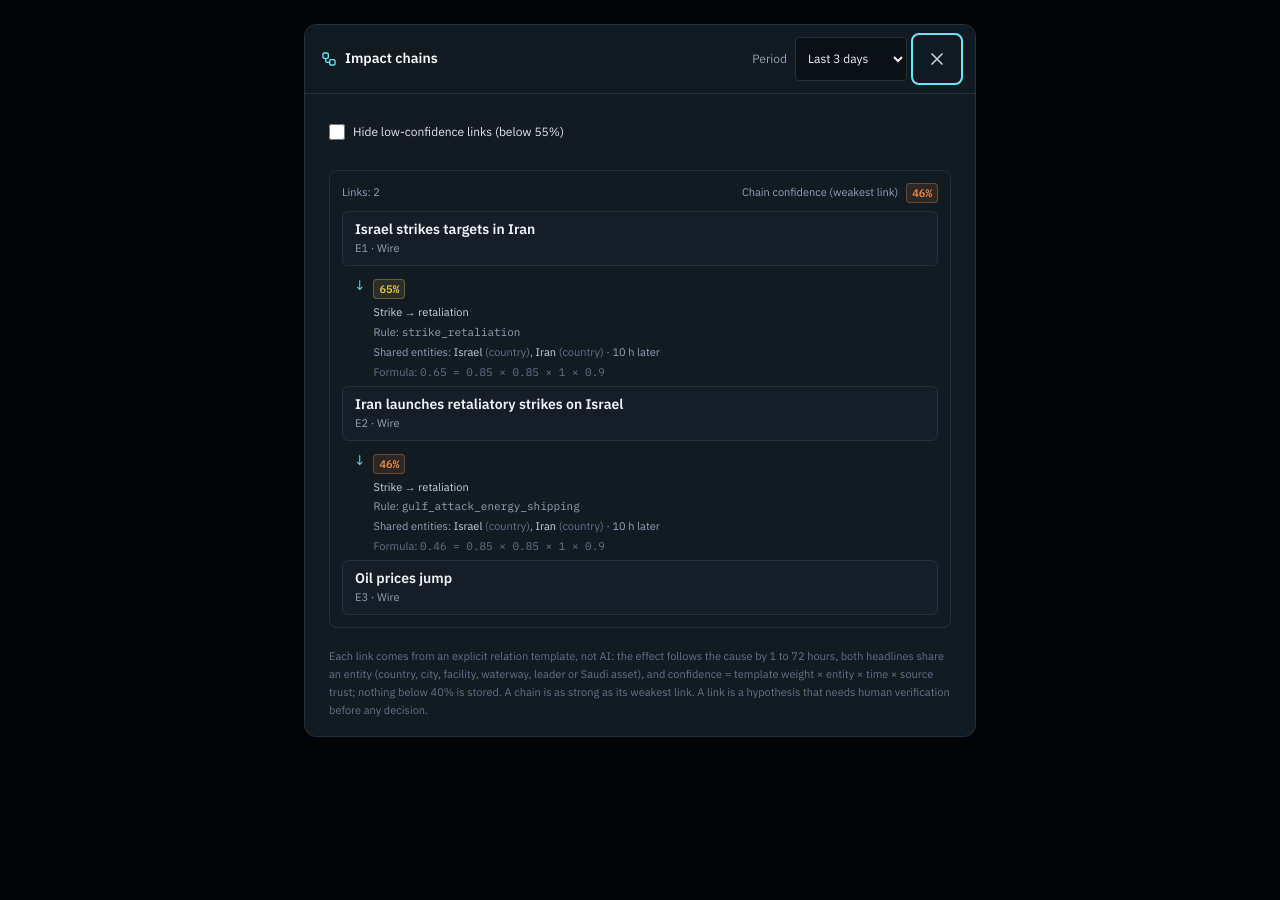
<ChainsModal> › hides low-confidence links by asking the server for stronger ones
Expected: the text "Israel strikes targets in Iran" is shown, [355, 219, 535, 240]
Click the checkbox labelled "Hide low-confidence links (below 55%)" at (337, 132), box [329, 124, 345, 140]
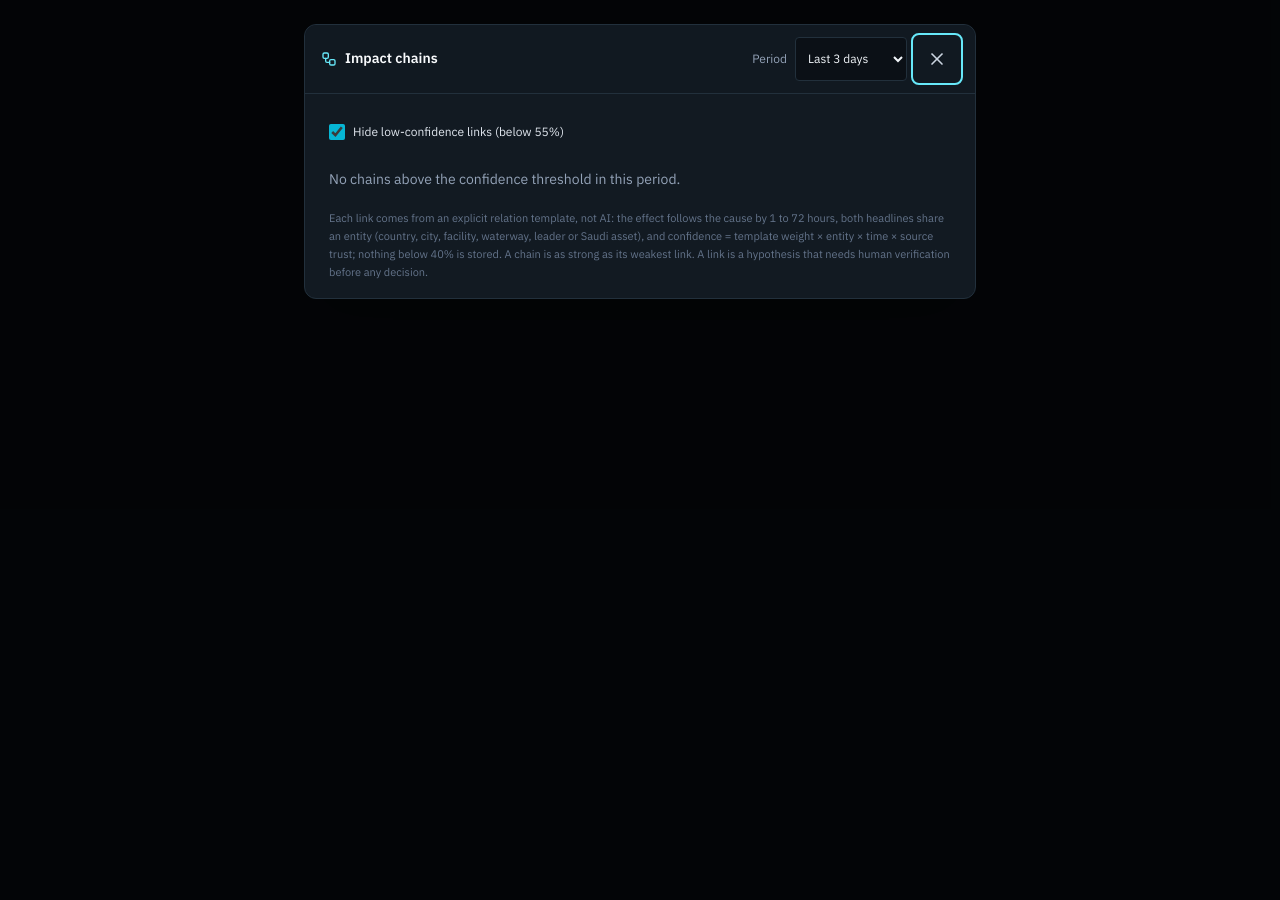
Now the text "No chains above the confidence threshold in this period." is shown, box [329, 169, 680, 190]
